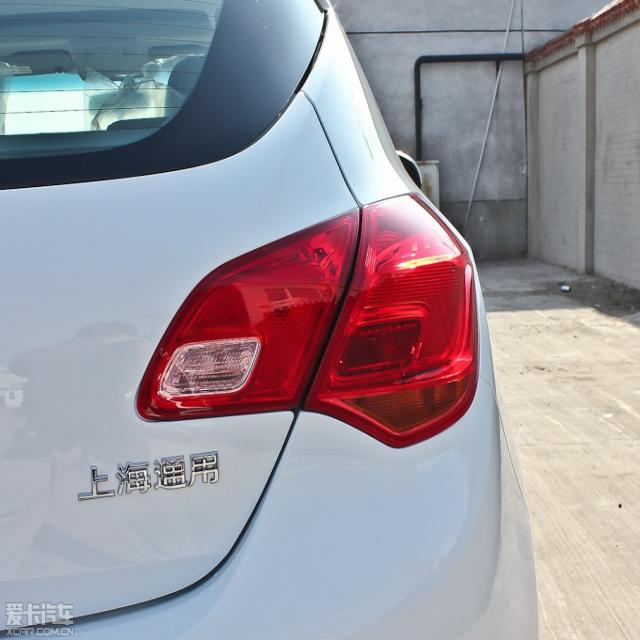back_right_side_light: (131, 184, 482, 455)
